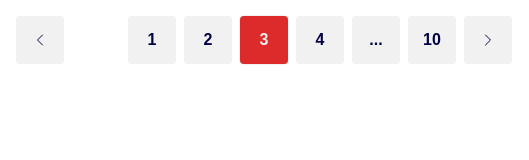
Test: <Pagination /> › Should be able to previous page
Expected: the text "1" is shown once, [128,16,176,64]
Expected: the text "2" is shown once, [184,16,232,64]
Click the element with test id "previousPage" at x=40, y=40, box [16,16,64,64]
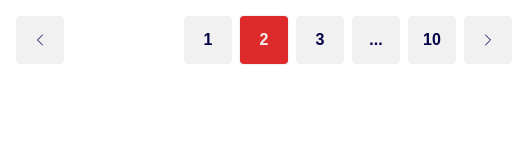
Expected: the text "..." is shown once, [352,16,400,64]
Now the text "1" is shown once, box [184,16,232,64]
Now the text "2" is shown once, box [240,16,288,64]
